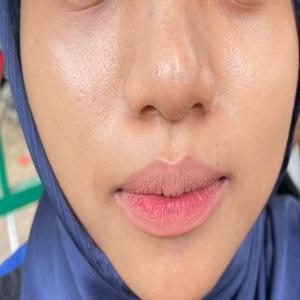Oily-Skin: (21, 17, 177, 157), (223, 18, 300, 172), (139, 0, 212, 118)
